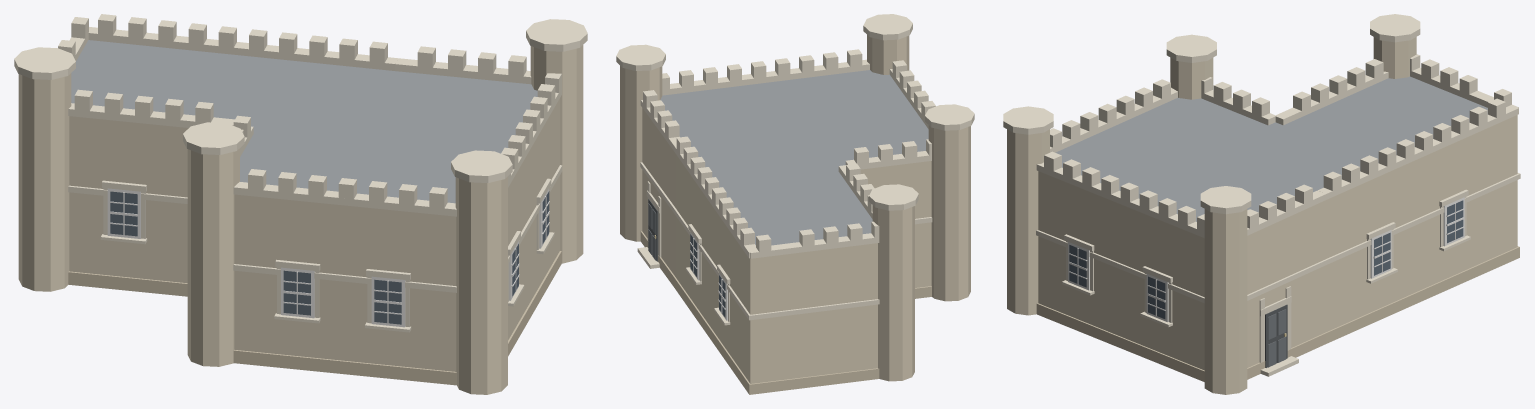
3 views of the same model, side by side, from view 1: azimuth 30°, elevation 25°; view 2: azimuth 150°, elevation 25°; view 3: azimuth 270°, elevation 25° (orthographic). The views are drawn at different scales.
Parts seen in each view (by area): view 1: ss, lead, ss_lt, ss_dk, frame, window_glass_005, window_glass_007, window_glass_006; view 2: ss, lead, ss_lt, ss_dk, frame, door_dark_p; view 3: ss, ss_lt, lead, ss_dk, frame, door_dark_p, window_glass_001, window_glass_002, window_glass_003, window_glass_004, door_dark.
Boxes of the visible parts, box(x1,y1,x2,y2) form: ss: box(18, 45, 583, 394); lead: box(71, 40, 537, 203); ss_lt: box(14, 14, 587, 332); ss_dk: box(68, 251, 561, 385); frame: box(107, 188, 549, 327); window_glass_005: box(110, 191, 137, 236); window_glass_007: box(374, 279, 401, 324); window_glass_006: box(283, 270, 310, 315); ss: box(620, 35, 970, 383); lead: box(660, 70, 928, 245); ss_lt: box(616, 14, 974, 325); ss_dk: box(640, 231, 931, 394); frame: box(690, 232, 727, 320); door_dark_p: box(648, 203, 656, 260); ss: box(1007, 37, 1517, 394); ss_lt: box(1003, 14, 1520, 376); lead: box(1055, 76, 1487, 221); ss_dk: box(1036, 246, 1519, 381); frame: box(1068, 197, 1464, 322); door_dark_p: box(1268, 309, 1286, 367); window_glass_001: box(1069, 245, 1086, 287); window_glass_002: box(1148, 276, 1165, 318); window_glass_003: box(1374, 232, 1390, 275); window_glass_004: box(1447, 200, 1463, 243); door_dark: box(1265, 304, 1287, 367).
Bounding box in the file's own units: 17.36 × 7.85 × 19.54.
